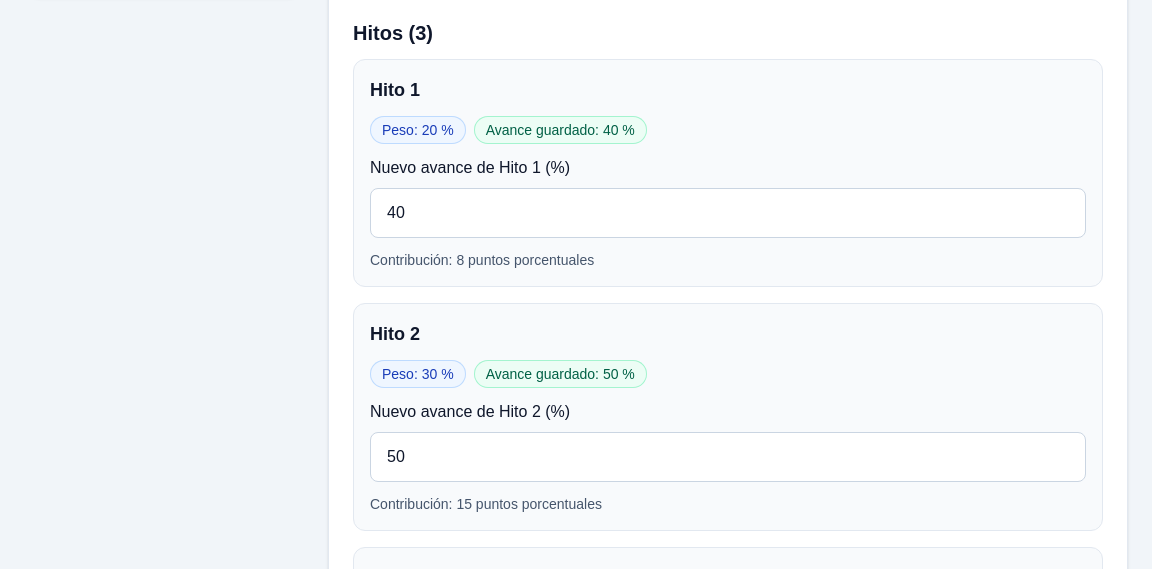
Test: guardar envía N hitos, usa respuesta del servidor y conserva selección
The width and height of the screenshot is (1152, 569).
(page scrolled)
Replace the text in the field labelled "Nuevo avance de Hito 1 (%)" with "60" at (728, 213), box [370,188,1086,238]
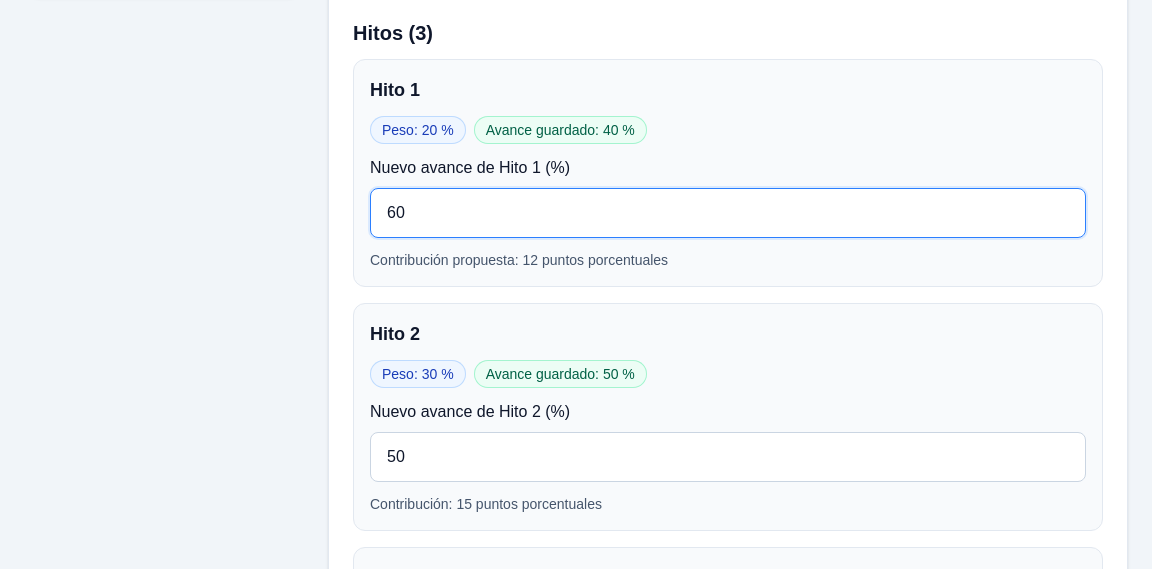
Replace the text in the field labelled "Nuevo avance de Hito 2 (%)" with "60,50" at (728, 457), box [370,432,1086,482]
(page scrolled)
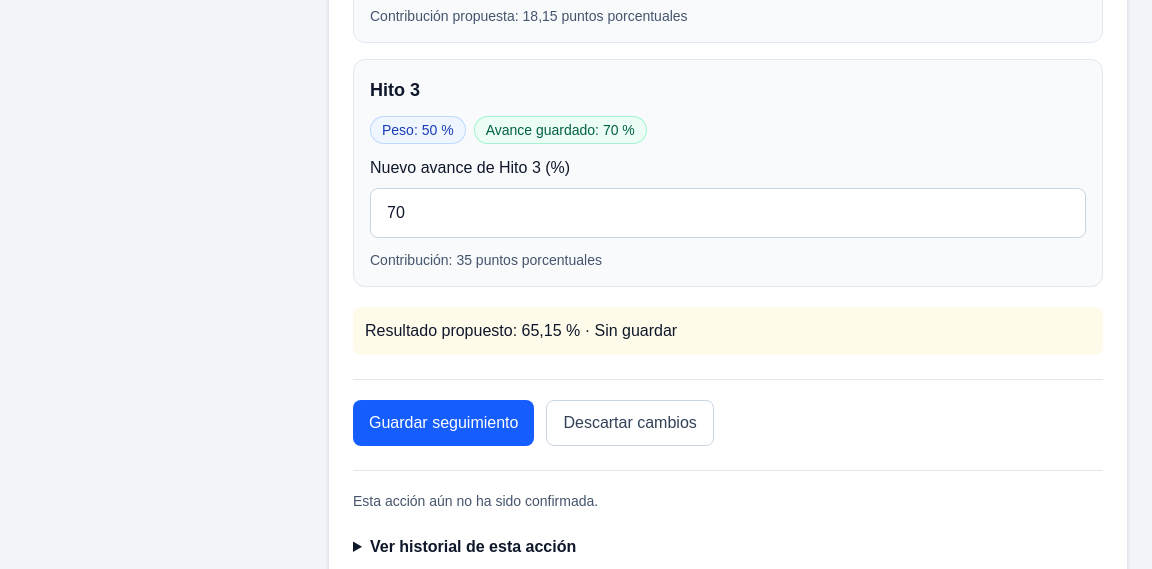
Replace the text in the field labelled "Nuevo avance de Hito 3 (%)" with "80" at (728, 213), box [370,188,1086,238]
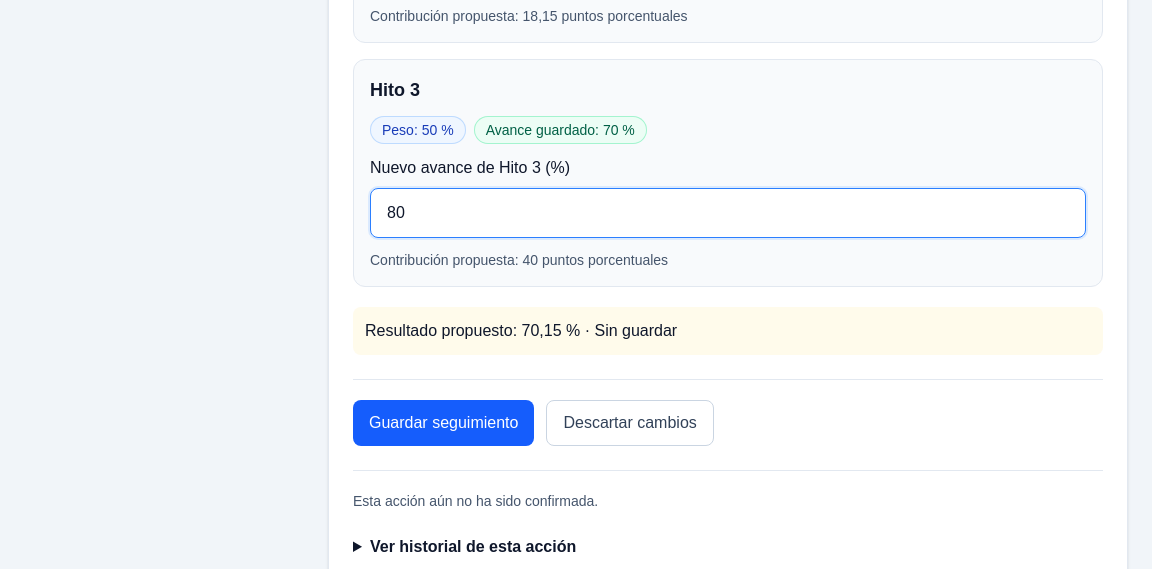
Expected: the text "Resultado propuesto: 70,15 % · Sin guardar" is shown, [353,307,1103,355]
Click the button "Guardar seguimiento" at (444, 423), box [353,400,534,446]
(page scrolled)
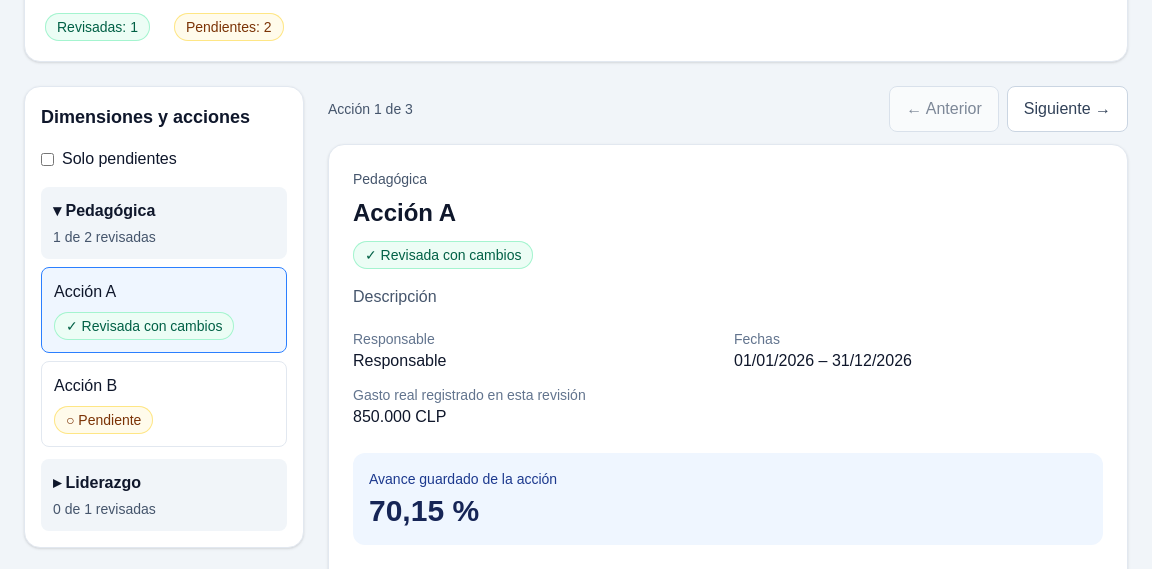
Expected: the heading "Acción A" is shown, [353,199,456,226]
Expected: the text "Revisadas: 1" is shown, [45,13,150,41]
